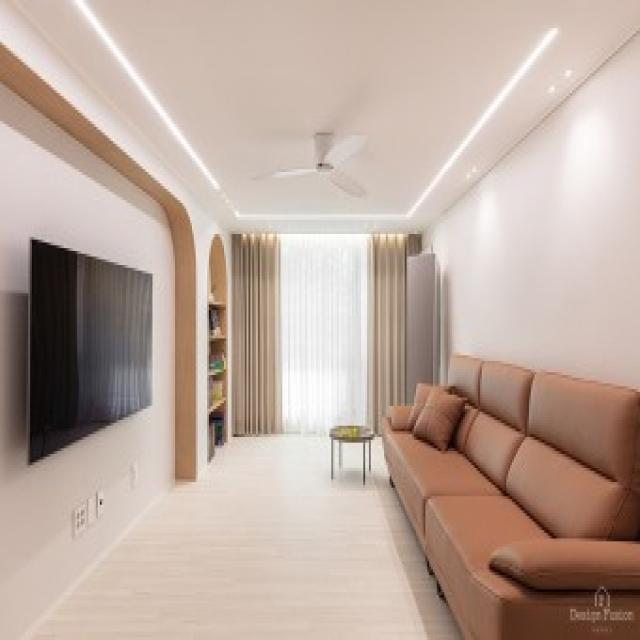Sofa: (380, 352, 640, 640)
Table: (329, 422, 377, 490)
tv: (28, 235, 154, 467)
